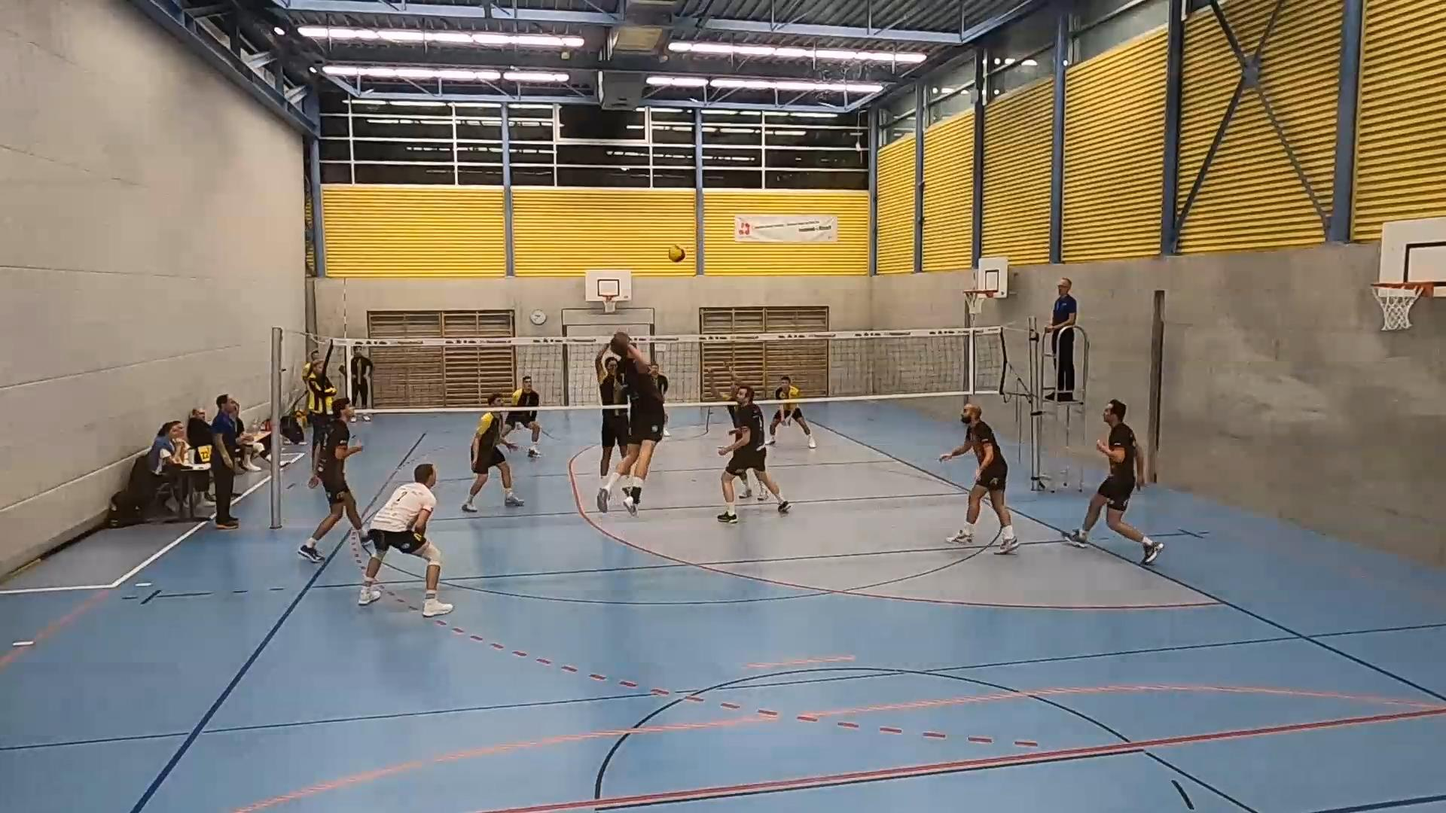attacco: (597, 329, 675, 509)
muro: (590, 332, 634, 510)
